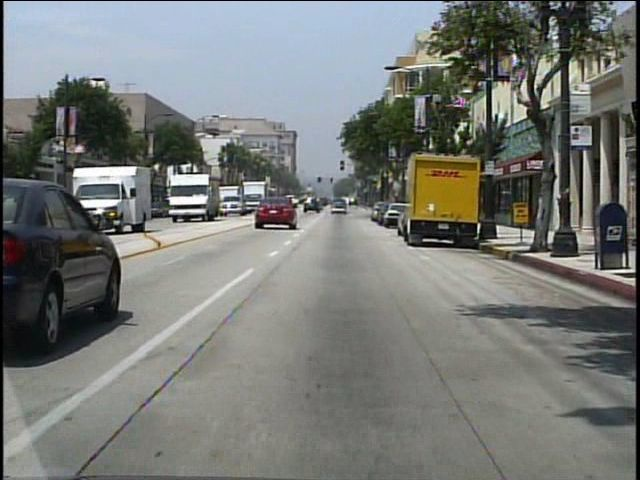person: (556, 184, 575, 236)
